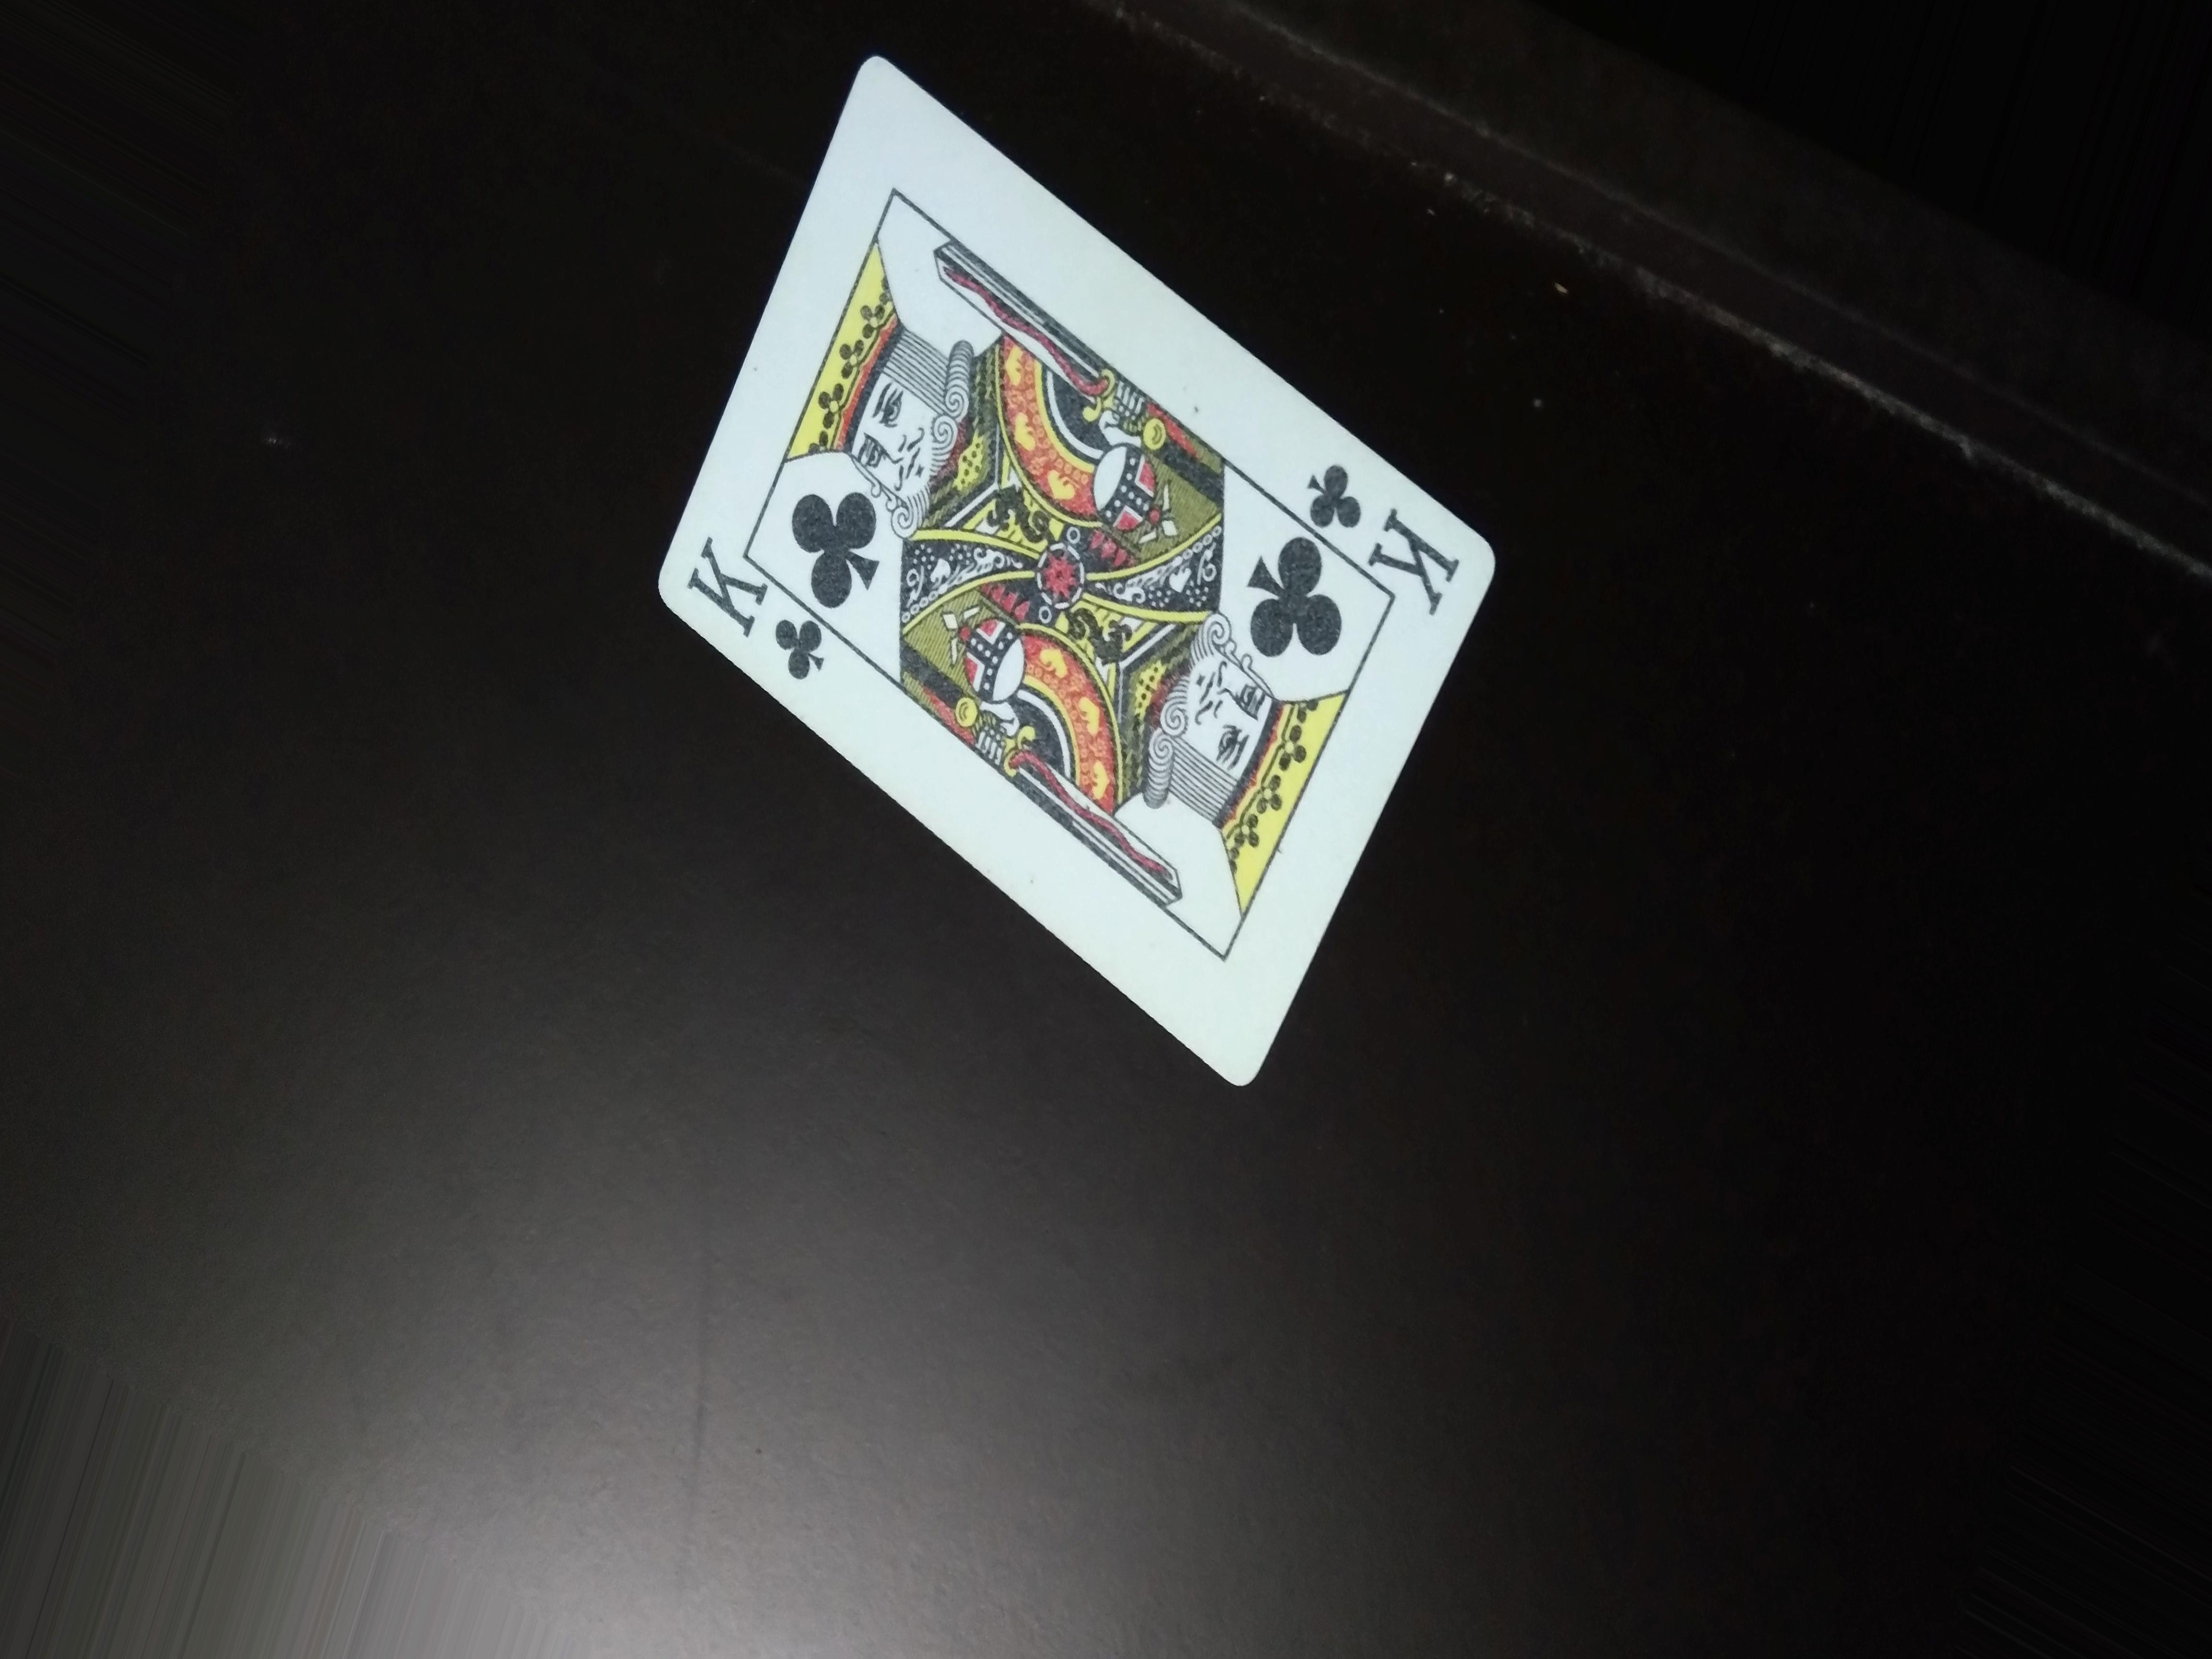KC: (676, 530, 822, 667)
